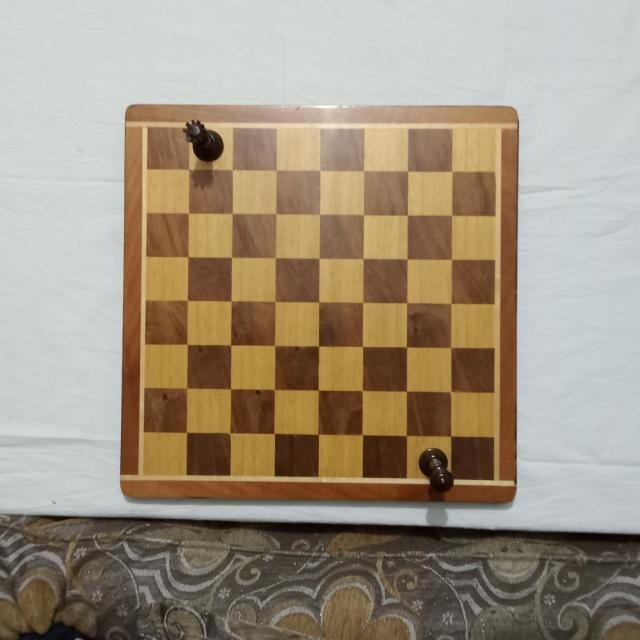black-king: (417, 445, 455, 494)
black-queen: (182, 117, 224, 164)
